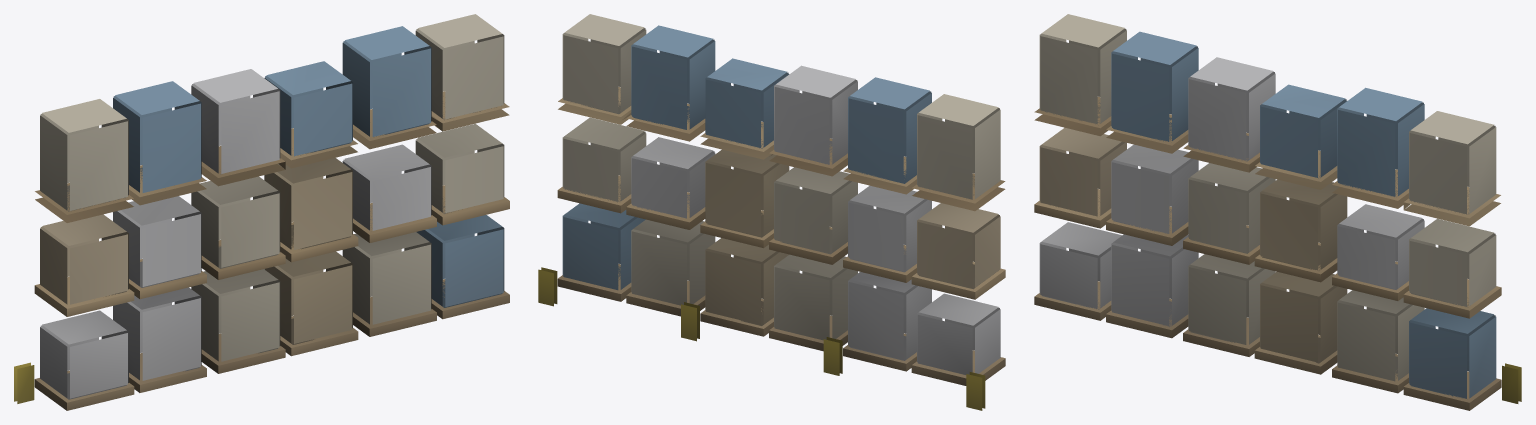
Rendered from rack.lod.glb.
3 renders of one model, left to right at view 1: azimuth 30°, elevation 25°; view 2: azimuth 150°, elevation 25°; view 3: azimuth 330°, elevation 25°, orthographic. The views are drawn at different scales.
Visible parts, largest first — view 1: rack; view 2: rack; view 3: rack.
Part boxes in pixels (x1,y1,x2,y2): rack: (14, 14, 509, 410); rack: (538, 14, 1005, 410); rack: (1034, 14, 1521, 410).
Size of the model in its own units: 8.4 by 4.96 by 1.2.
